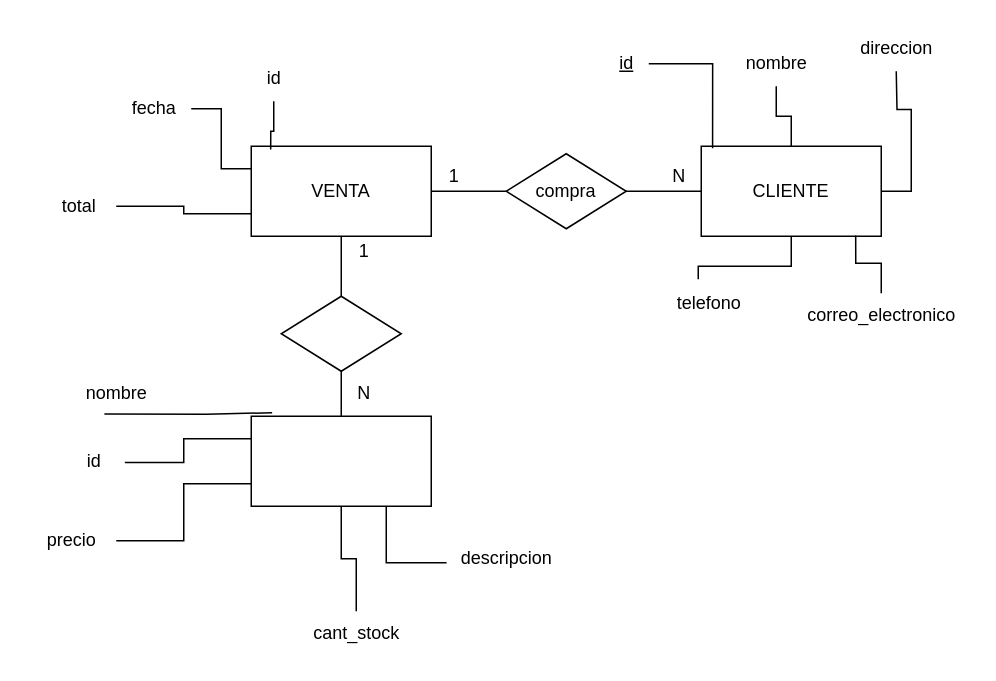
Image size: 996x681. Some labels were removed from this diagram. Each missing label, with the centre of its shape:
contiene: (x=340, y=333)
PRODUCTO: (x=340, y=460)
